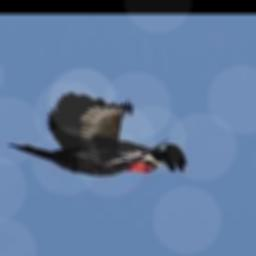Woodpecker: (7, 92, 185, 177)
